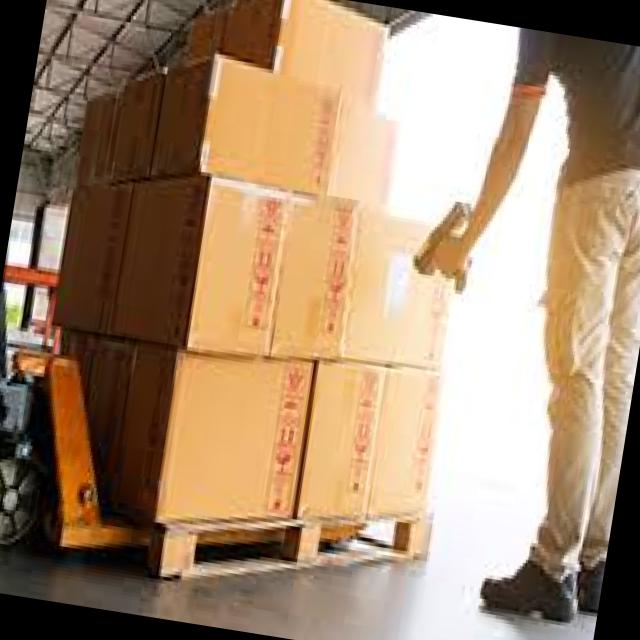Wooden-Pallets: (139, 509, 448, 594)
